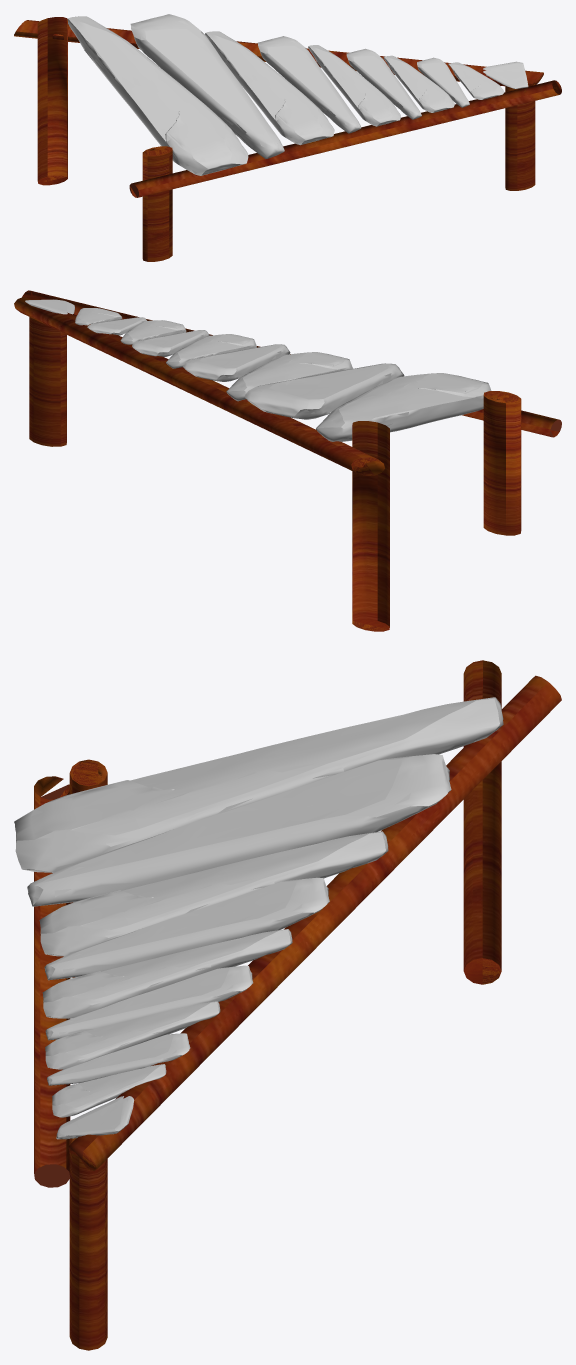
Rendered from dan_da.gltf.
3 renders of one model, top to bottom at view 1: azimuth 30°, elevation 25°; view 2: azimuth 150°, elevation 25°; view 3: azimuth 270°, elevation 25°, orthographic. The views are drawn at different scales.
Parts seen in each view (by area): view 1: RetopoFlow.001, RetopoFlow.001_Normal_Map_0.001, _gltfNode_10.001, RetopoFlow.001_Normal_Map_0.002, _gltfNode_26.001, RetopoFlow.001_Normal_Map_0.003, _gltfNode_22.001, RetopoFlow.001_Normal_Map_0.004, _gltfNode_34.001, RetopoFlow.001_Normal_Map_0.005, _gltfNode_28.001, RetopoFlow.001_Normal_Map_0.006 (+3 smaller); view 2: _gltfNode_28.001, _gltfNode_26.001, RetopoFlow.001, _gltfNode_22.001, RetopoFlow.001_Normal_Map_0.001, _gltfNode_34.001, RetopoFlow.001_Normal_Map_0.002, RetopoFlow.001_Normal_Map_0.003, RetopoFlow.001_Normal_Map_0.004, _gltfNode_10.001, RetopoFlow.001_Normal_Map_0.005, RetopoFlow.001_Normal_Map_0.006 (+3 smaller); view 3: RetopoFlow.001, RetopoFlow.001_Normal_Map_0.001, _gltfNode_28.001, RetopoFlow.001_Normal_Map_0.002, RetopoFlow.001_Normal_Map_0.003, _gltfNode_26.001, RetopoFlow.001_Normal_Map_0.004, _gltfNode_34.001, _gltfNode_10.001, RetopoFlow.001_Normal_Map_0.005, RetopoFlow.001_Normal_Map_0.006, RetopoFlow.001_Normal_Map_0.007 (+3 smaller).
Boxes of the visible parts, x1=… form: RetopoFlow.001: x1=67, y1=16, x2=248, y2=175; RetopoFlow.001_Normal_Map_0.001: x1=130, y1=14, x2=284, y2=158; _gltfNode_10.001: x1=129, y1=80, x2=561, y2=197; RetopoFlow.001_Normal_Map_0.002: x1=205, y1=31, x2=334, y2=145; _gltfNode_26.001: x1=37, y1=17, x2=67, y2=185; RetopoFlow.001_Normal_Map_0.003: x1=258, y1=36, x2=361, y2=133; _gltfNode_22.001: x1=142, y1=146, x2=172, y2=261; RetopoFlow.001_Normal_Map_0.004: x1=308, y1=45, x2=400, y2=126; _gltfNode_34.001: x1=505, y1=83, x2=535, y2=190; RetopoFlow.001_Normal_Map_0.005: x1=346, y1=48, x2=421, y2=119; _gltfNode_28.001: x1=14, y1=20, x2=543, y2=86; RetopoFlow.001_Normal_Map_0.006: x1=383, y1=55, x2=454, y2=112; _gltfNode_28.001: x1=14, y1=296, x2=384, y2=475; _gltfNode_26.001: x1=352, y1=421, x2=389, y2=631; RetopoFlow.001: x1=316, y1=373, x2=491, y2=441; _gltfNode_22.001: x1=483, y1=391, x2=521, y2=535; RetopoFlow.001_Normal_Map_0.001: x1=244, y1=363, x2=404, y2=419; _gltfNode_34.001: x1=29, y1=317, x2=66, y2=446; RetopoFlow.001_Normal_Map_0.002: x1=226, y1=352, x2=352, y2=401; RetopoFlow.001_Normal_Map_0.003: x1=183, y1=344, x2=290, y2=381; RetopoFlow.001_Normal_Map_0.004: x1=166, y1=334, x2=256, y2=368; _gltfNode_10.001: x1=22, y1=290, x2=561, y2=437; RetopoFlow.001_Normal_Map_0.005: x1=132, y1=330, x2=209, y2=357; RetopoFlow.001_Normal_Map_0.006: x1=120, y1=320, x2=186, y2=344; RetopoFlow.001: x1=14, y1=697, x2=503, y2=872; RetopoFlow.001_Normal_Map_0.001: x1=27, y1=754, x2=451, y2=906; _gltfNode_28.001: x1=68, y1=675, x2=561, y2=1171; RetopoFlow.001_Normal_Map_0.002: x1=39, y1=831, x2=388, y2=956; RetopoFlow.001_Normal_Map_0.003: x1=44, y1=877, x2=329, y2=980; _gltfNode_26.001: x1=463, y1=660, x2=501, y2=984; RetopoFlow.001_Normal_Map_0.004: x1=42, y1=929, x2=292, y2=1018; _gltfNode_34.001: x1=69, y1=1138, x2=107, y2=1350; _gltfNode_10.001: x1=34, y1=776, x2=70, y2=1187; RetopoFlow.001_Normal_Map_0.005: x1=45, y1=965, x2=253, y2=1040; RetopoFlow.001_Normal_Map_0.006: x1=45, y1=1001, x2=220, y2=1069; RetopoFlow.001_Normal_Map_0.007: x1=47, y1=1033, x2=190, y2=1085.
Size of the model in its own units: 12.63 by 5.02 by 7.54.
